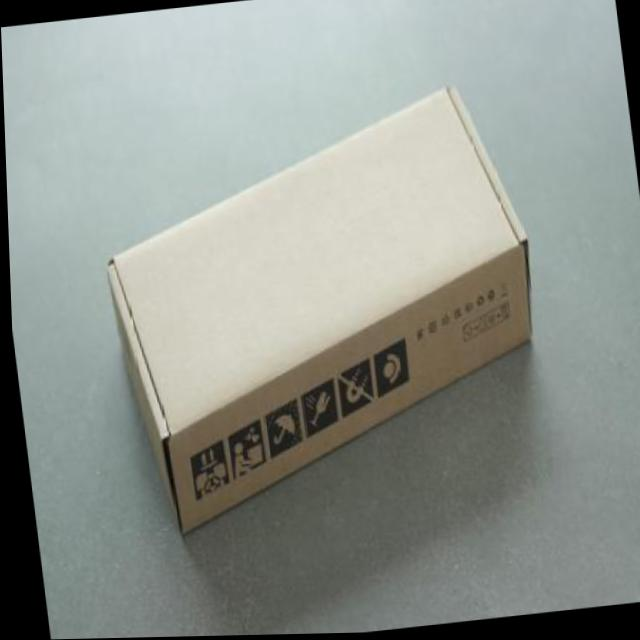box: (69, 72, 568, 553)
